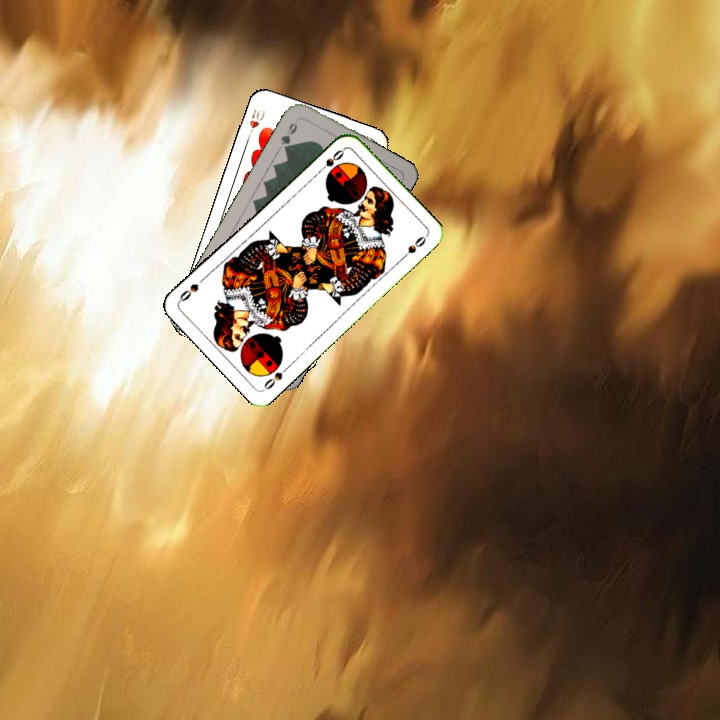G9: (277, 119, 300, 154)
H10: (243, 104, 268, 142)
SO: (259, 361, 292, 393), (314, 145, 347, 176)
